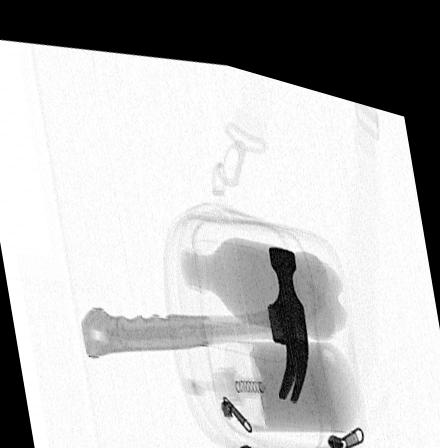Hammer: (78, 230, 308, 386)
